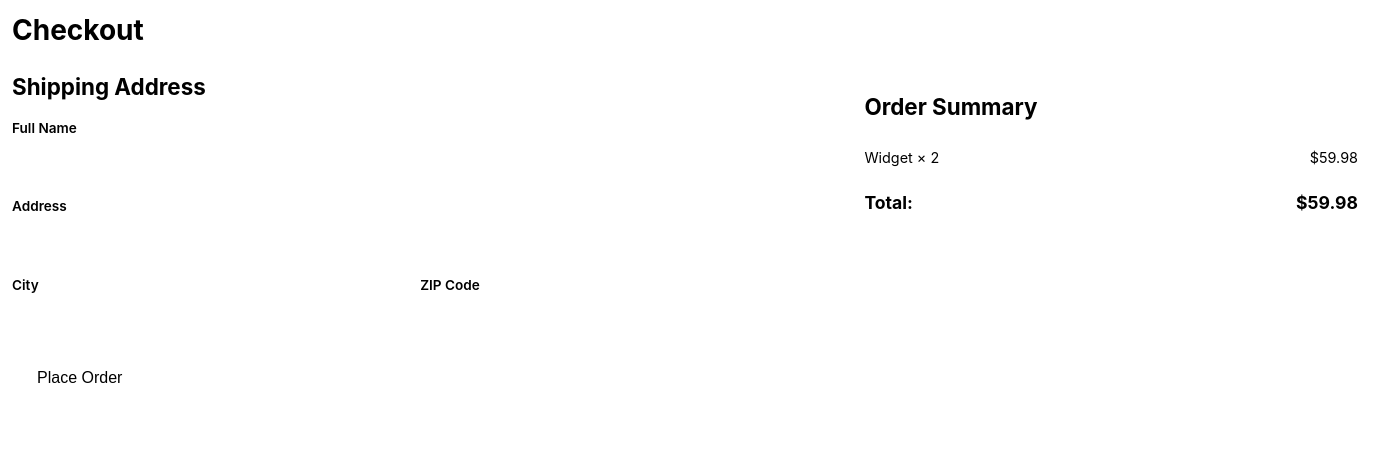
Test case: Checkout › shows validation errors for empty fields
Step 1. Click the button "Place Order" → click(80, 378), box [12,354,147,402]
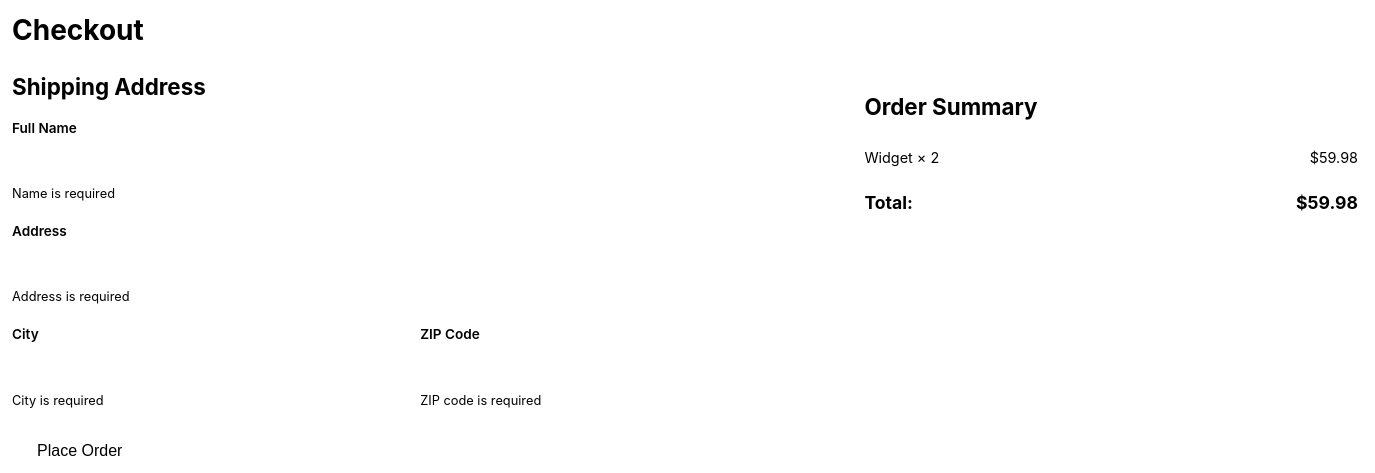
Result: the text "Name is required" is shown at [12,186,115,201]
Result: the text "Address is required" is shown at [12,290,130,304]
Result: the text "City is required" is shown at [12,393,104,408]
